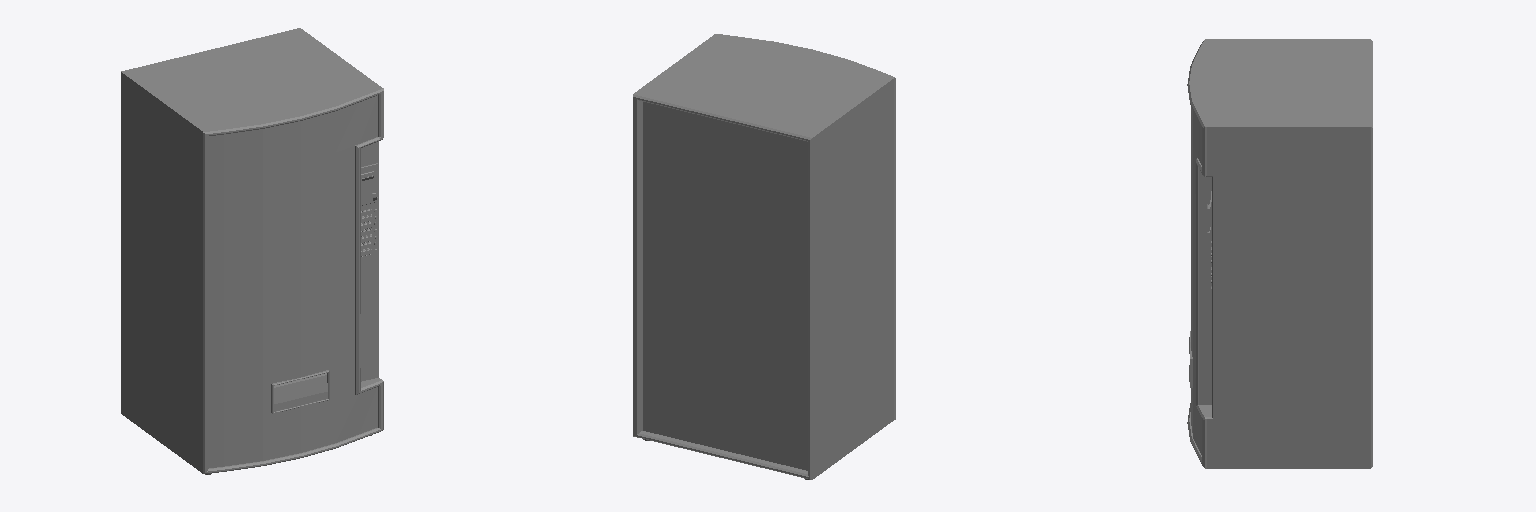
Rendered from Only-Fantas.obj.
3 views of the same model, side by side, from view 1: azimuth 30°, elevation 25°; view 2: azimuth 150°, elevation 25°; view 3: azimuth 270°, elevation 25° (orthographic).
Parts seen in each view (by area): view 1: Main_Low, Cover_Low, Pannel_Low; view 2: Main_Low; view 3: Main_Low.
Part boxes in pixels (x1,y1,x2,y2): Main_Low: (121,28,383,473); Cover_Low: (274,373,327,411); Pannel_Low: (361,163,377,205); Main_Low: (633,34,895,479); Main_Low: (1187,39,1372,468).
Size of the model in its own units: 55.82 by 102 by 49.64.